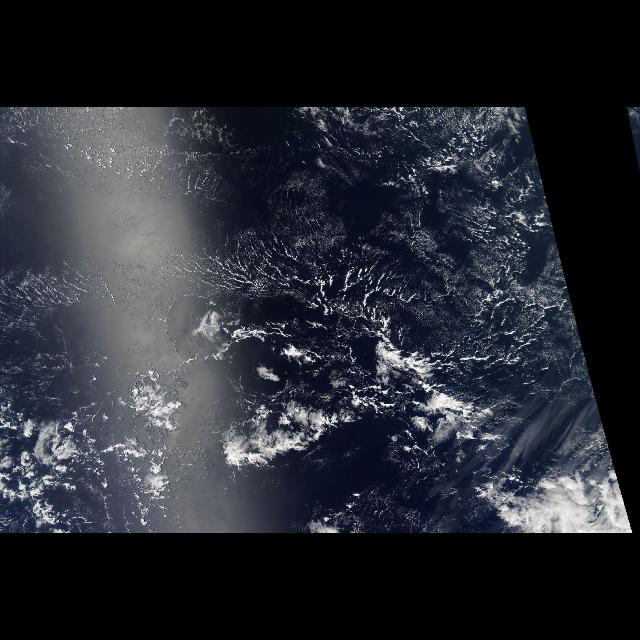Gravel: (162, 274, 384, 406)
Sugar: (1, 110, 568, 352)
